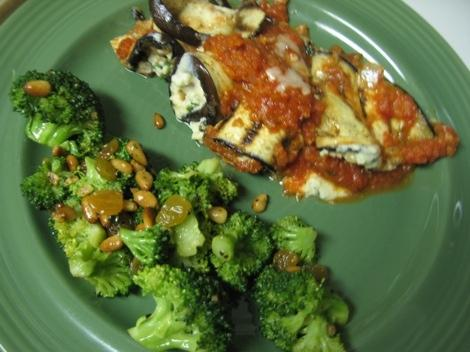broccoli: (127, 264, 239, 352), (8, 69, 106, 148), (47, 214, 133, 298), (250, 263, 324, 349), (209, 209, 274, 292), (150, 158, 239, 218), (284, 286, 350, 352), (68, 156, 127, 202), (119, 223, 177, 268), (19, 162, 68, 210), (270, 215, 317, 263), (172, 208, 206, 258)
